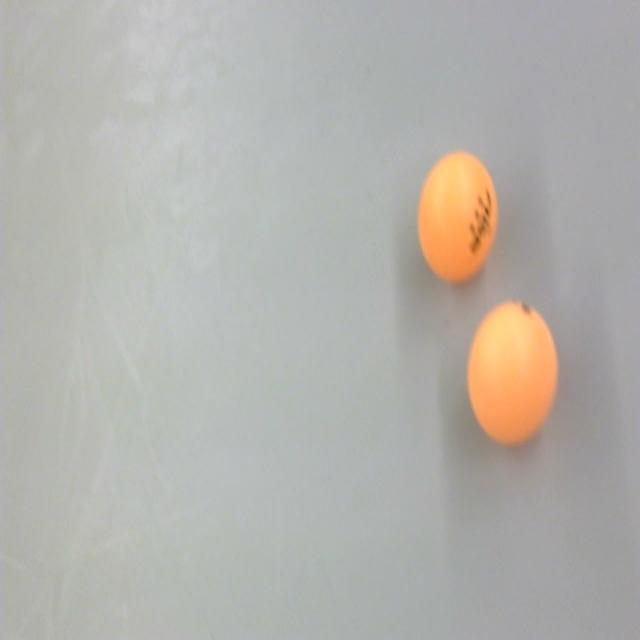ball: (465, 302, 561, 451), (416, 148, 499, 288)
